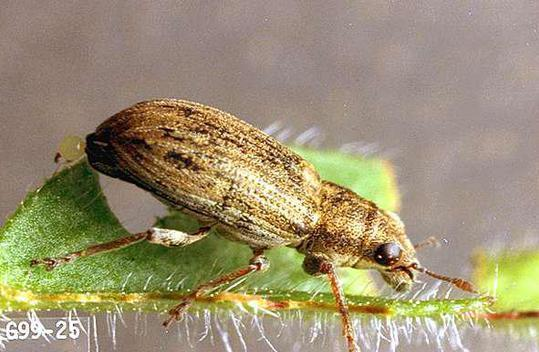weevils: (5, 68, 507, 352)
